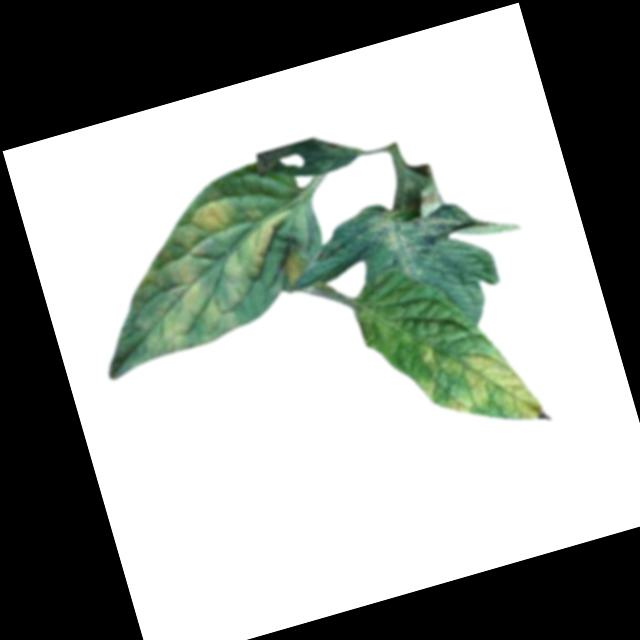Leaf_Mold: (101, 164, 317, 362), (409, 318, 545, 448), (365, 186, 476, 287)
